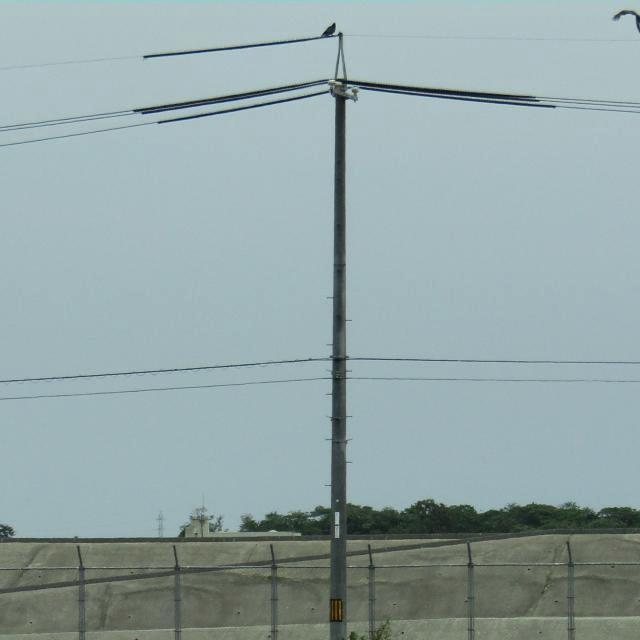pole: (328, 80, 357, 636)
wire: (0, 86, 640, 147), (0, 78, 640, 132), (0, 33, 640, 70), (0, 358, 640, 383), (0, 377, 640, 400)
